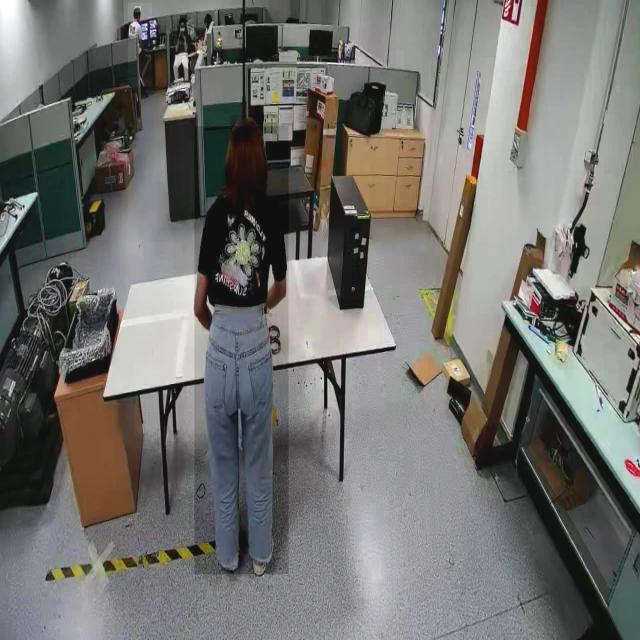face_mask: (177, 19, 185, 40)
head_nohelmet: (230, 114, 268, 148), (180, 15, 188, 23), (134, 6, 141, 14)
person: (194, 126, 288, 575), (128, 3, 152, 88), (168, 18, 188, 95)
